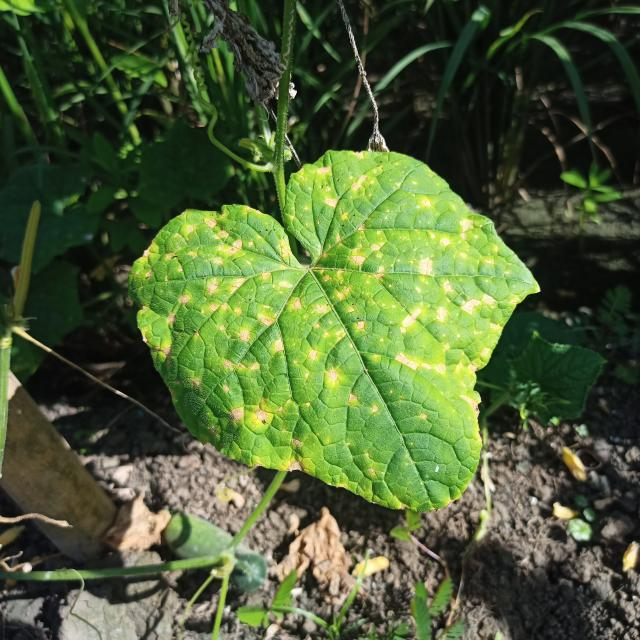disease_cucumber: (143, 157, 522, 476)
